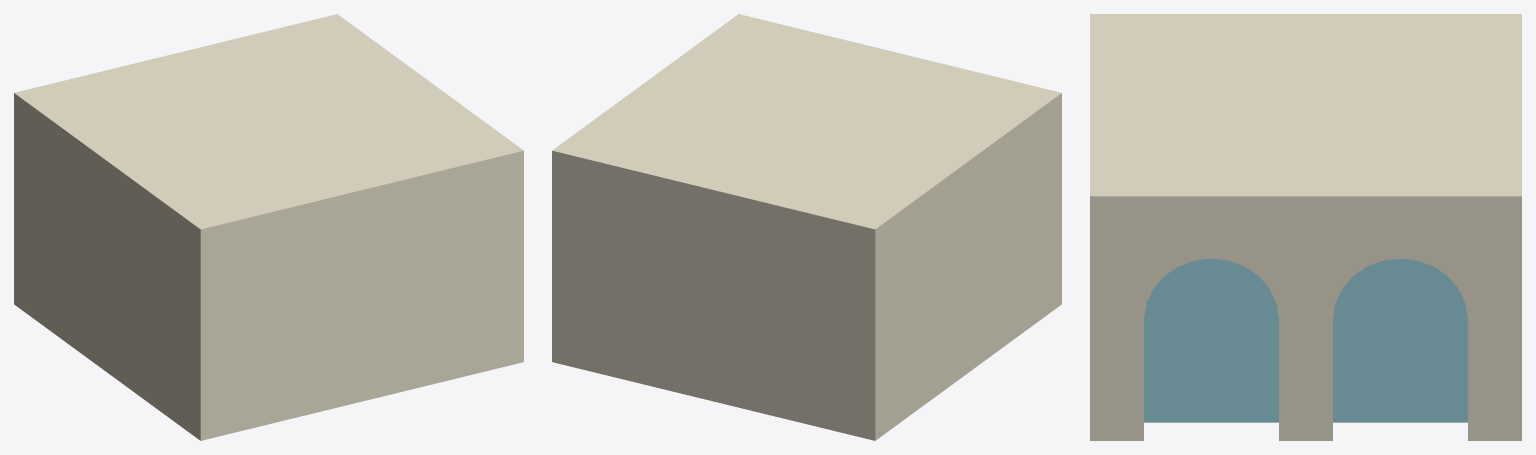
The model's file is building_021.fbx.
The picture shows the model from 3 angles, left to right: view 1: azimuth 30°, elevation 25°; view 2: azimuth 150°, elevation 25°; view 3: azimuth 270°, elevation 25°; orthographic projection. The views are drawn at different scales.
Visible parts, largest first — view 1: building_021; view 2: building_021; view 3: building_021.
Part boxes in pixels (box(x1,y1,x2,y2)): building_021: box(14, 14, 523, 440); building_021: box(552, 14, 1061, 440); building_021: box(1090, 14, 1521, 440).
Size of the model in its own units: 10 by 6.25 by 10.
